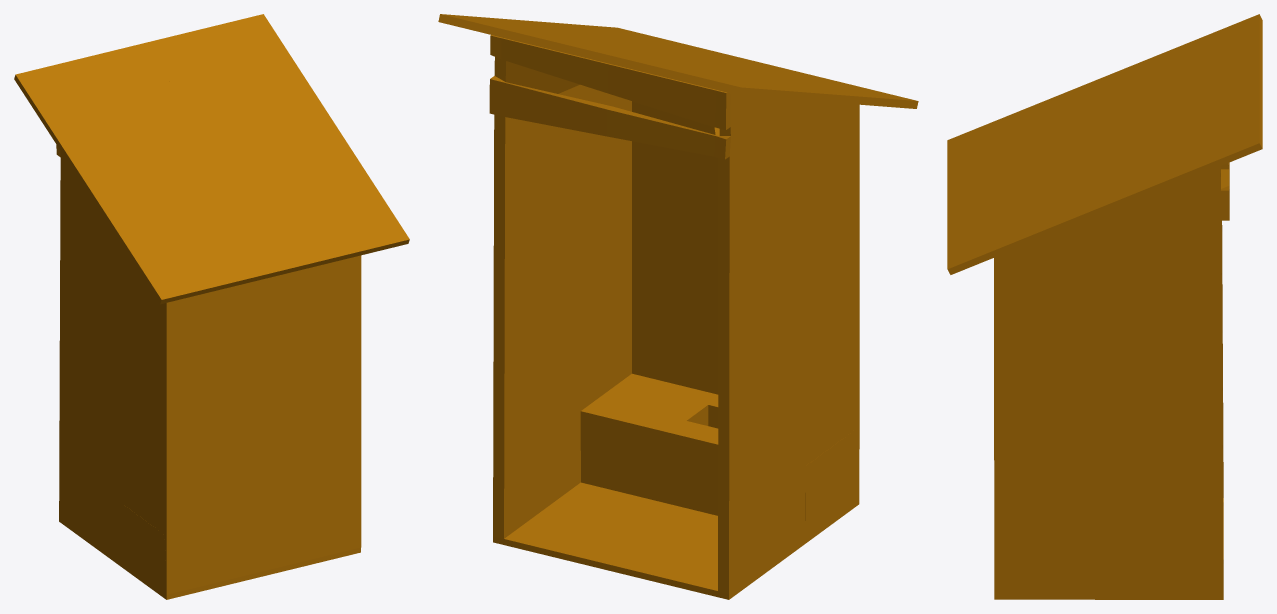
Rendered from Esconderijo(PortaAbertaCORRIGIDO) (2).fbx.
The picture shows the model from 3 angles, left to right: view 1: azimuth 30°, elevation 25°; view 2: azimuth 150°, elevation 25°; view 3: azimuth 270°, elevation 25°; orthographic projection. The views are drawn at different scales.
Visible parts, largest first — view 1: Esconderijo.001; view 2: Esconderijo.001; view 3: Esconderijo.001.
Part boxes in pixels (x1=…): Esconderijo.001: x1=14, y1=14, x2=409, y2=599; Esconderijo.001: x1=438, y1=14, x2=918, y2=599; Esconderijo.001: x1=947, y1=14, x2=1262, y2=599.
Size of the model in its own units: 286 by 485 by 294.
